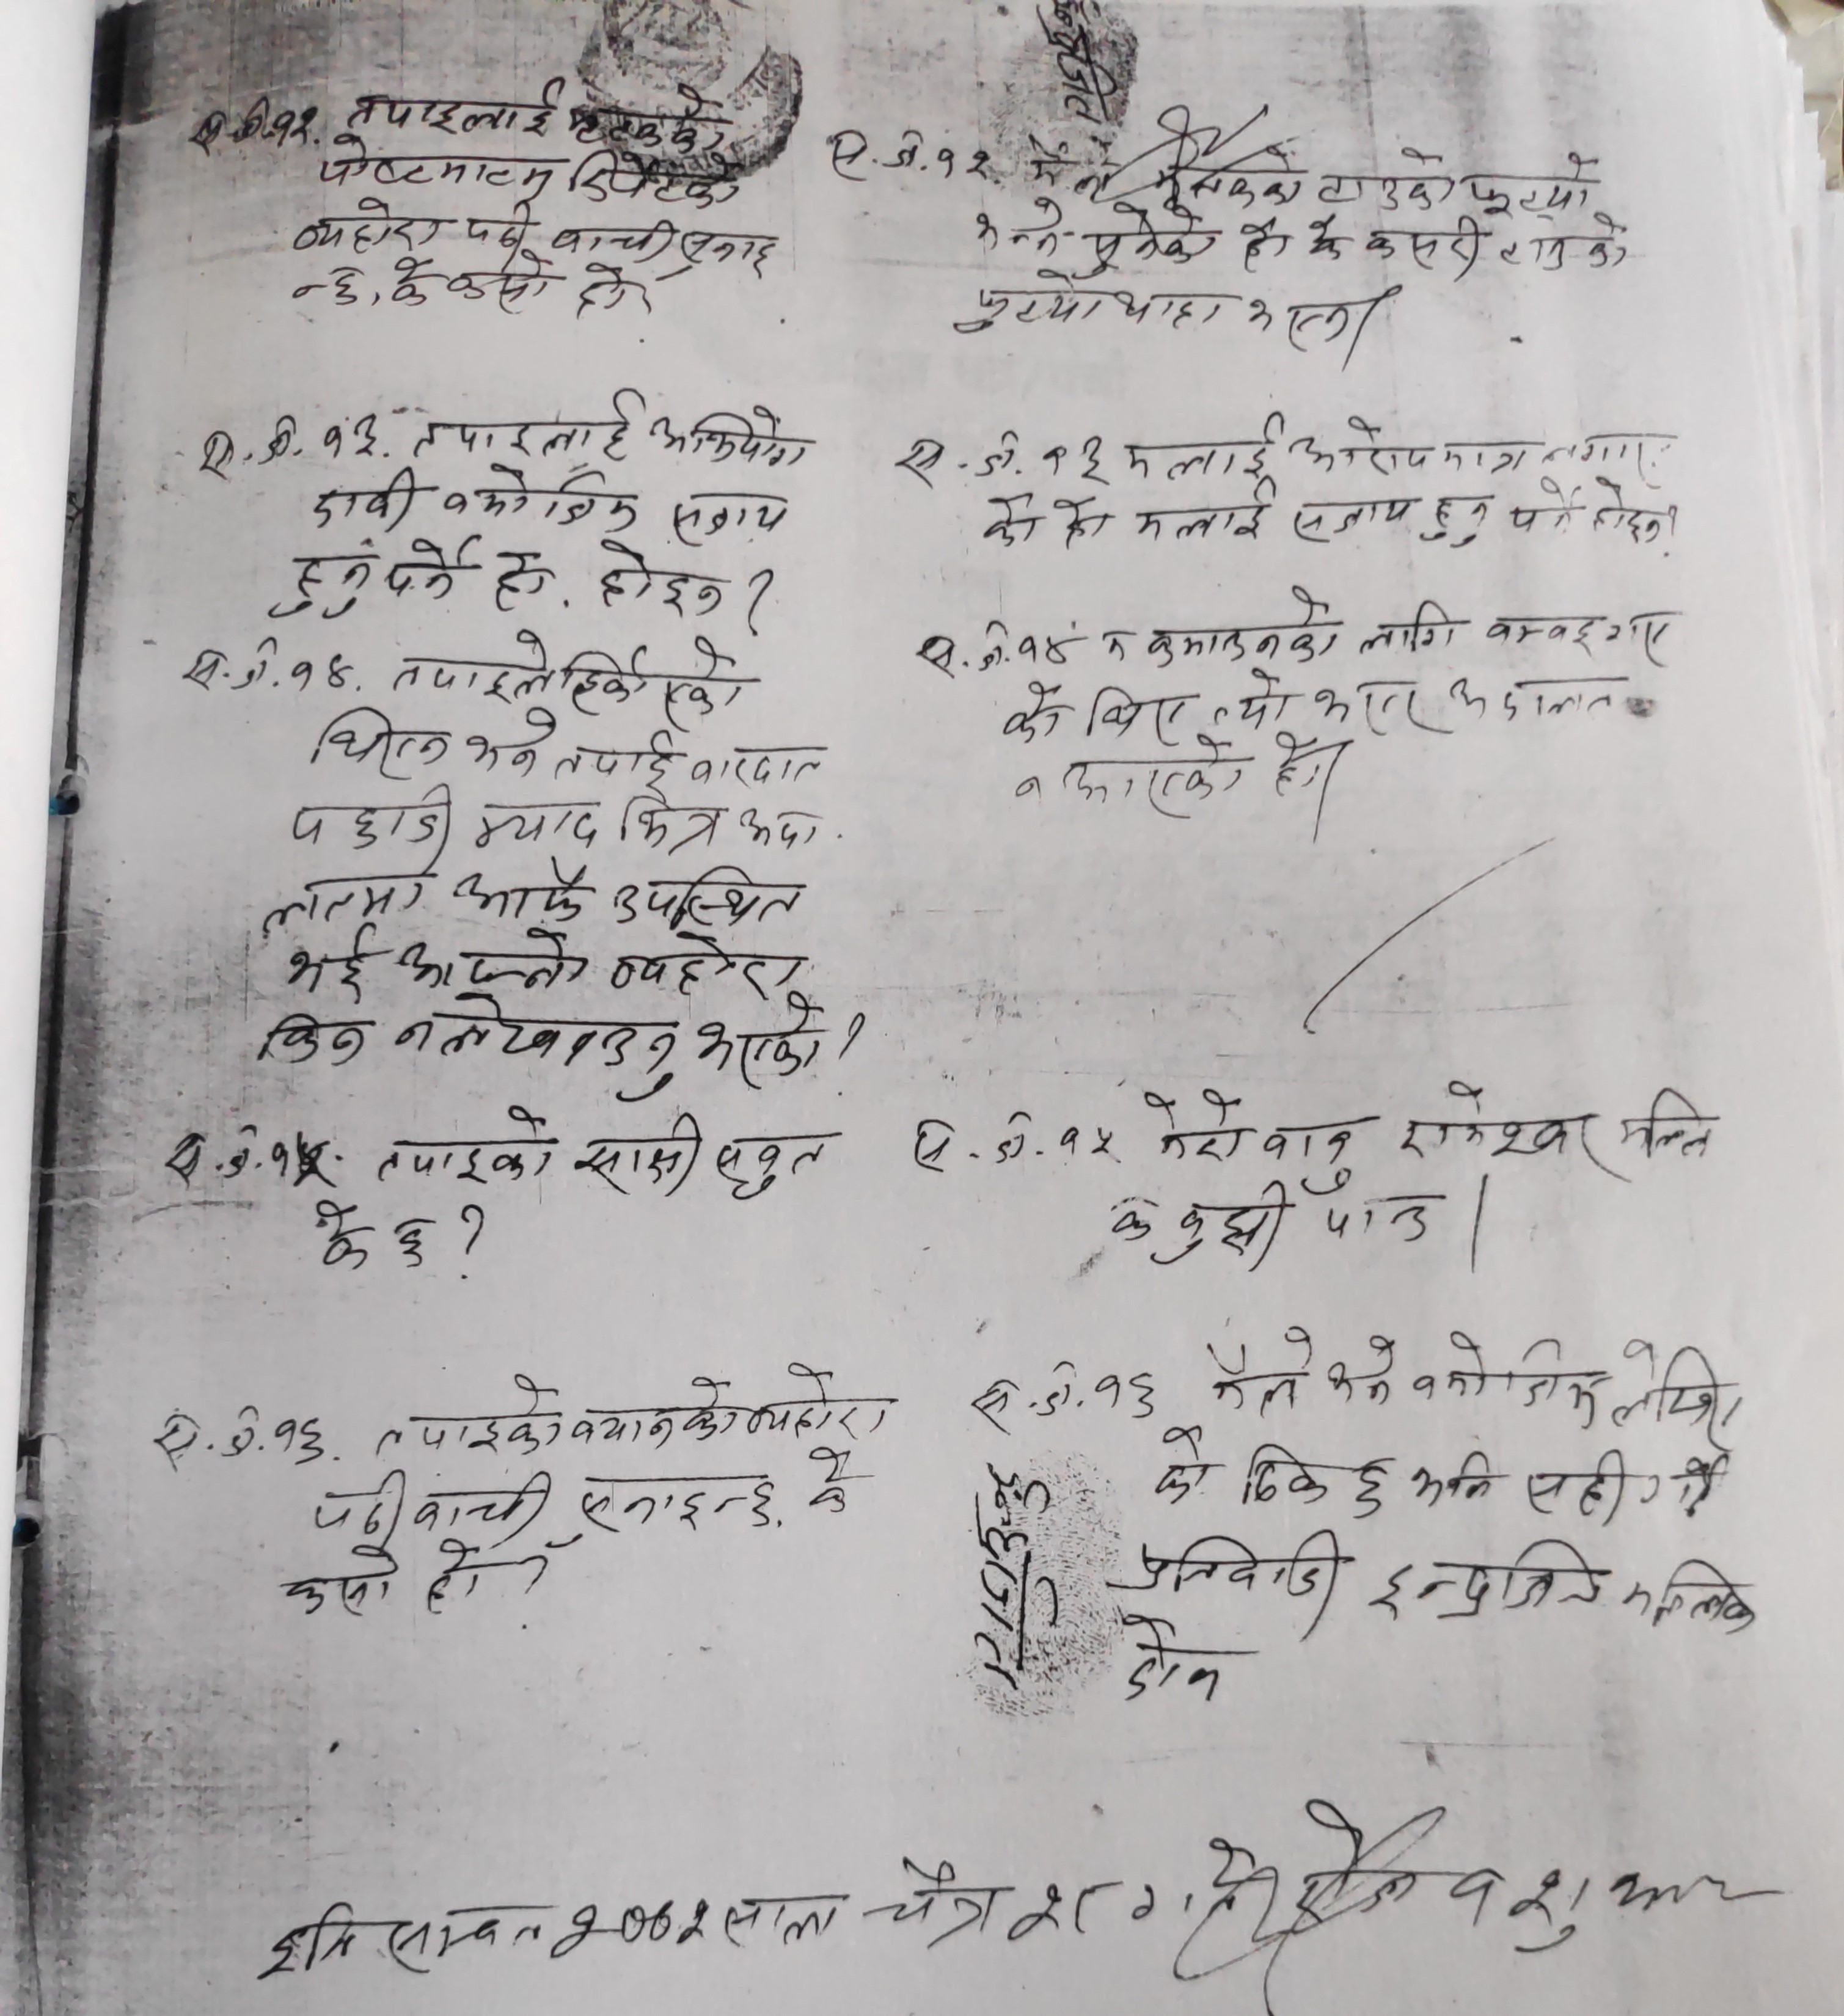text: (393, 992, 685, 1099), (1368, 1535, 1605, 1623), (954, 269, 1228, 339), (1393, 1076, 1595, 1171), (1415, 1328, 1598, 1431), (406, 383, 643, 460), (1119, 1523, 1345, 1602), (376, 1096, 558, 1192), (1291, 414, 1530, 485), (372, 1368, 558, 1458), (1145, 583, 1338, 667), (288, 780, 458, 871), (443, 458, 639, 534), (339, 70, 560, 137), (604, 927, 811, 997), (694, 987, 834, 1087), (576, 1466, 776, 1537), (611, 855, 806, 927), (318, 137, 558, 195), (1479, 601, 1679, 669), (648, 393, 813, 474), (565, 1108, 706, 1203), (564, 1372, 739, 1447), (862, 1853, 999, 1949), (745, 1364, 903, 1447), (381, 1895, 550, 1972), (392, 625, 553, 702), (1078, 197, 1228, 279), (1120, 406, 1287, 479), (256, 866, 434, 934), (1623, 1552, 1756, 1640), (587, 536, 729, 616), (399, 929, 588, 989), (313, 704, 455, 783), (1603, 1338, 1719, 1435), (550, 1893, 708, 1963), (1164, 1177, 1287, 1266), (1199, 1322, 1315, 1417), (1117, 1612, 1228, 1709), (1314, 142, 1458, 214), (706, 1126, 836, 1205), (1463, 151, 1602, 223), (1243, 290, 1382, 362), (450, 853, 590, 924), (1133, 476, 1273, 546), (407, 1468, 551, 1535), (283, 1542, 404, 1621), (1363, 207, 1489, 279), (655, 629, 741, 732), (1138, 1082, 1245, 1164), (292, 198, 453, 253), (994, 1877, 1122, 1944), (471, 794, 604, 857), (1524, 1447, 1628, 1528), (1268, 732, 1354, 829), (258, 1895, 360, 1976), (285, 925, 379, 1012), (1619, 1082, 1718, 1164), (265, 550, 376, 622), (253, 1006, 369, 1075), (309, 462, 418, 534), (666, 488, 792, 550), (462, 702, 560, 781), (1312, 678, 1440, 738), (718, 1890, 841, 1951), (1284, 490, 1417, 546), (1087, 680, 1196, 748), (615, 788, 725, 855), (1496, 227, 1639, 276), (1236, 1436, 1331, 1510), (557, 734, 685, 788), (560, 641, 653, 715), (676, 220, 782, 284), (309, 1468, 407, 1537), (383, 536, 476, 608), (546, 214, 680, 262), (688, 743, 832, 787), (1322, 1198, 1445, 1249), (968, 195, 1066, 258), (1588, 478, 1668, 553), (1359, 597, 1463, 655), (1208, 666, 1294, 732), (444, 263, 553, 316), (311, 1192, 381, 1273), (1322, 1333, 1396, 1408), (1408, 1447, 1498, 1507), (571, 260, 655, 323), (420, 1537, 485, 1617), (1257, 1120, 1361, 1170), (1414, 485, 1496, 546), (736, 796, 825, 852), (490, 541, 555, 618), (1154, 1424, 1215, 1503), (999, 676, 1064, 746), (1510, 476, 1586, 536), (804, 1442, 854, 1521), (980, 495, 1045, 555), (460, 198, 536, 249), (1054, 499, 1119, 553), (292, 265, 367, 311), (1231, 216, 1289, 274), (1351, 1456, 1391, 1526), (1112, 1194, 1161, 1249), (393, 1212, 437, 1270), (392, 253, 432, 311), (1307, 216, 1354, 265)
